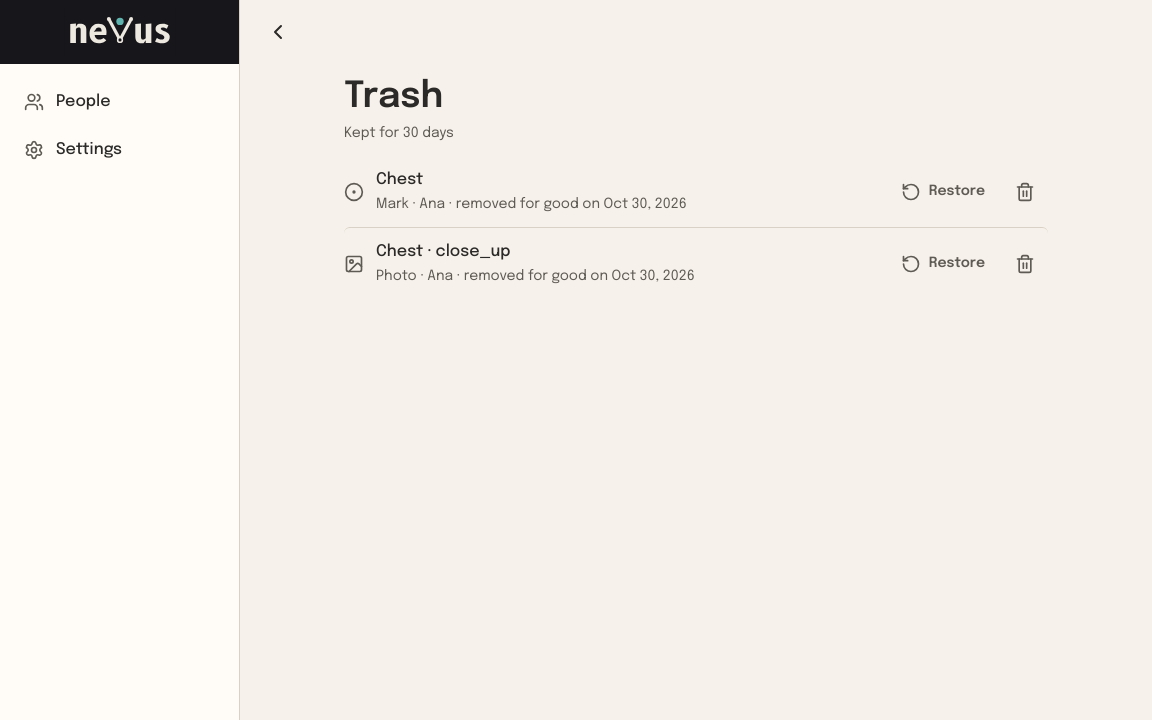
it: trash › restores an item, and deleting for good asks for the password first
Click the 1st button "Restore" at [943, 192], box [888,170,998,214]
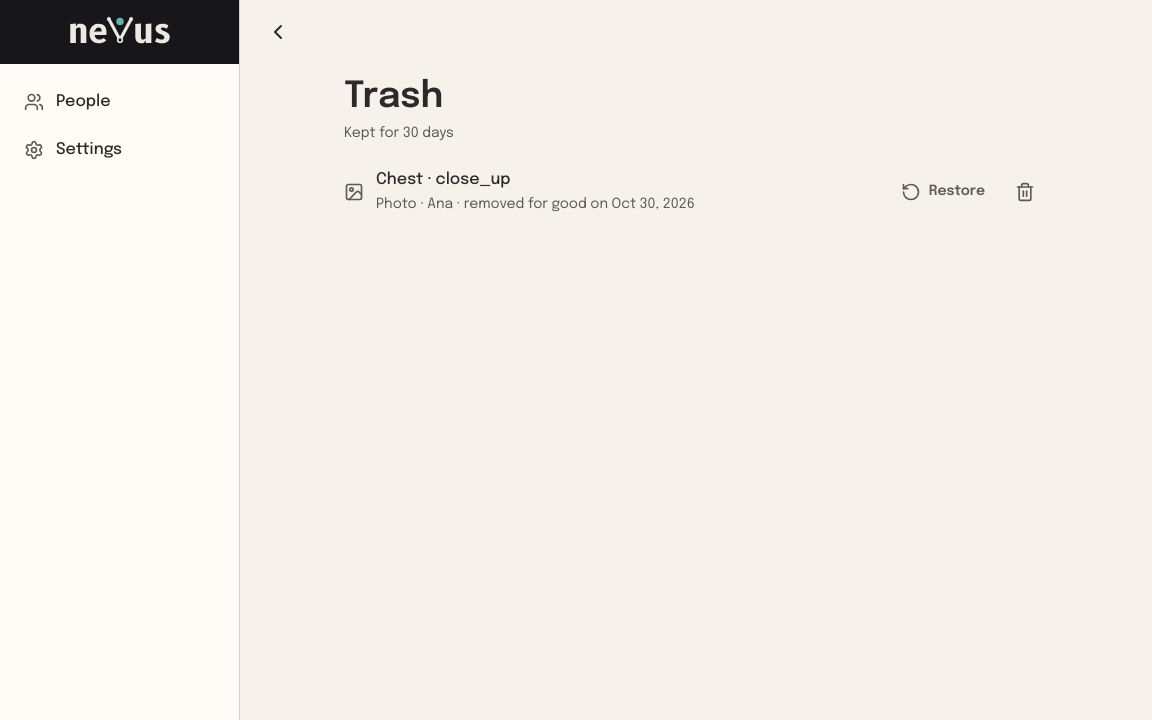
Click the button named "Delete now" at [1025, 192], box [1002,170,1048,214]
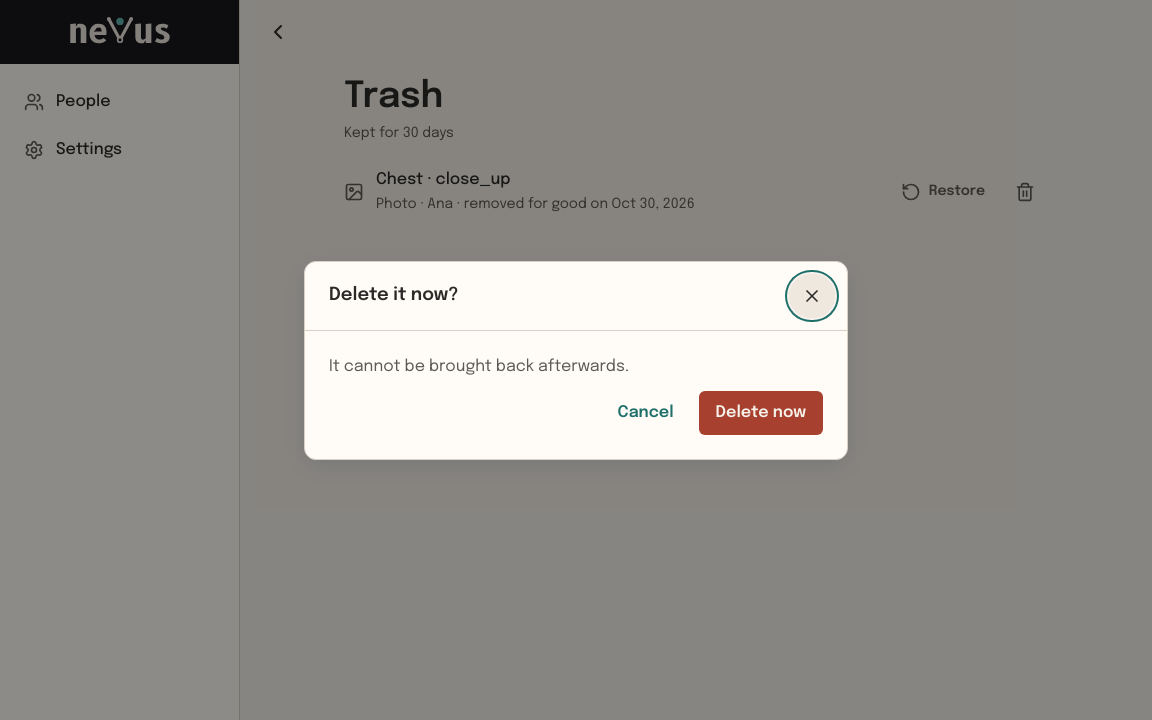
Click the button "Delete now" at [761, 412], box [699,390,823,434]
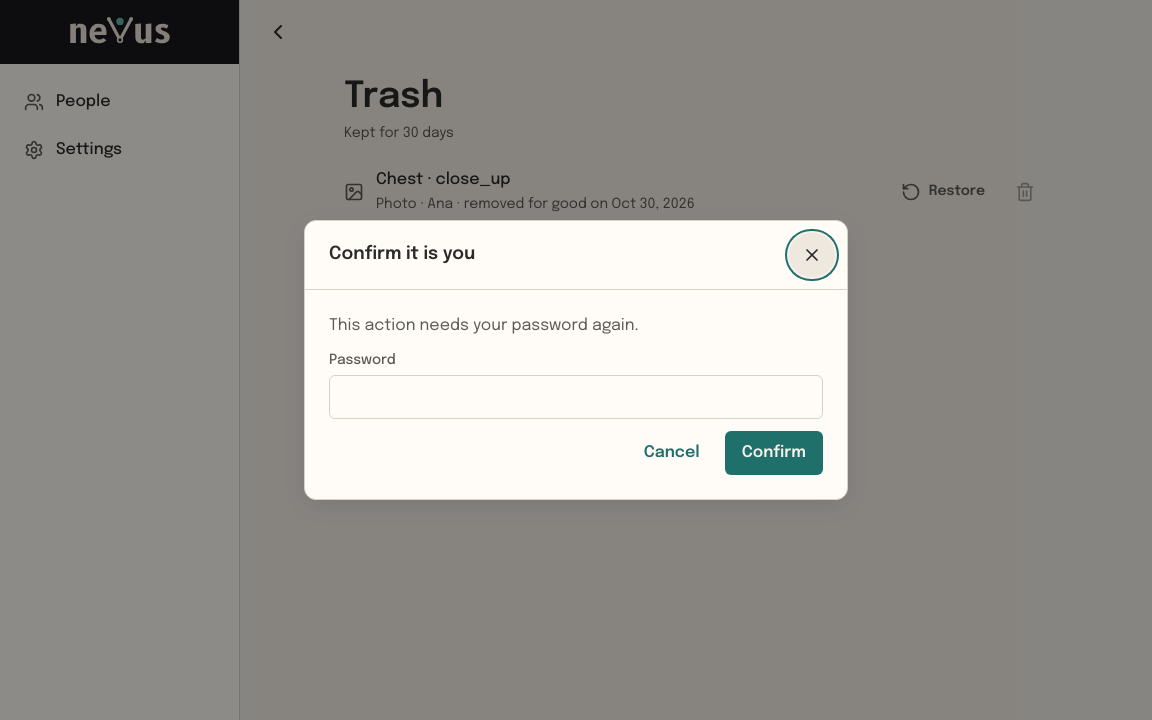
Result: the heading "Confirm it is you" is shown at [329,244,475,266]
Type "correct horse battery" into the password field labelled "Password" at [576, 397], box [329,375,823,419]
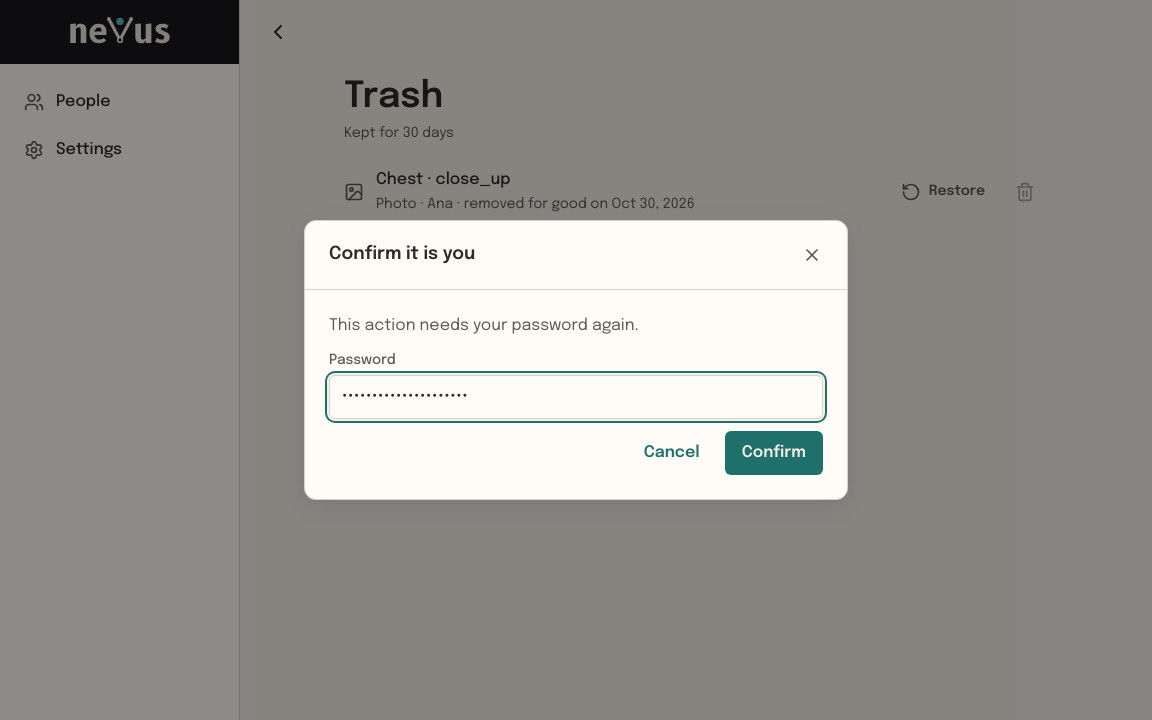
Click the button "Confirm" at [774, 453], box [725,431,823,475]
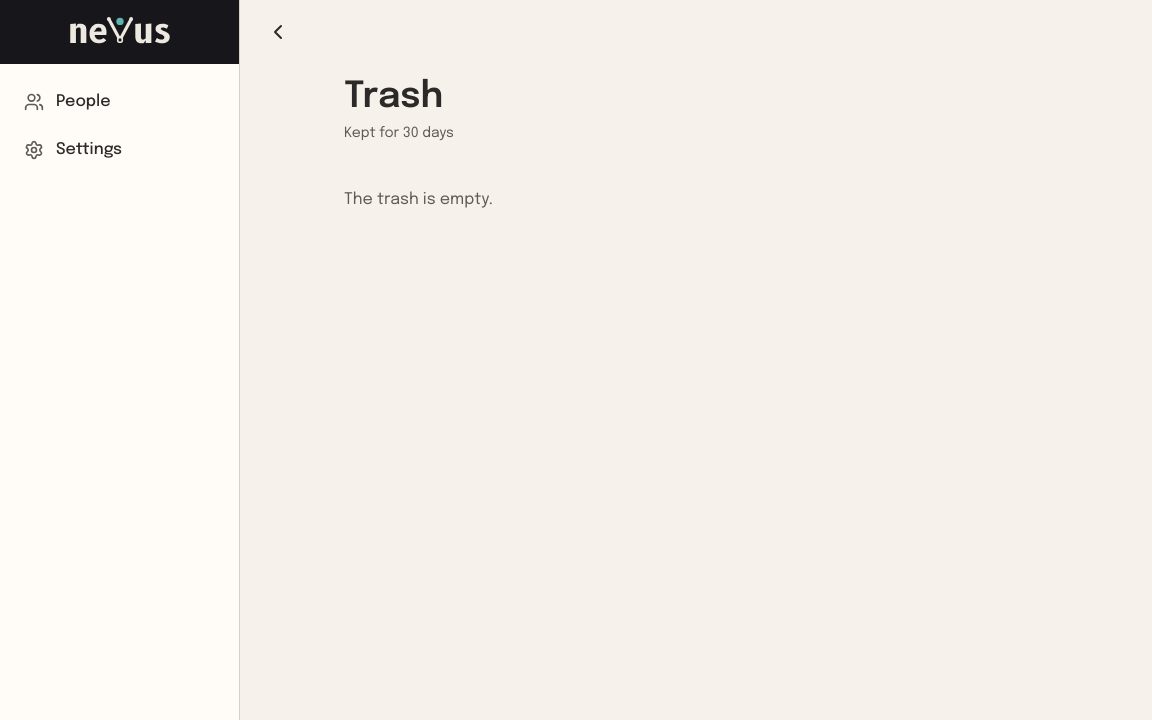
Result: the text "The trash is empty." is shown at [344,191,493,208]
